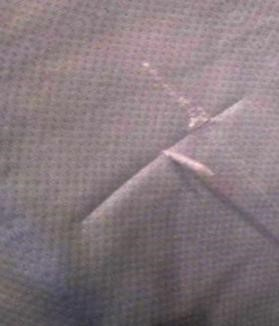snag: (153, 137, 225, 192)
